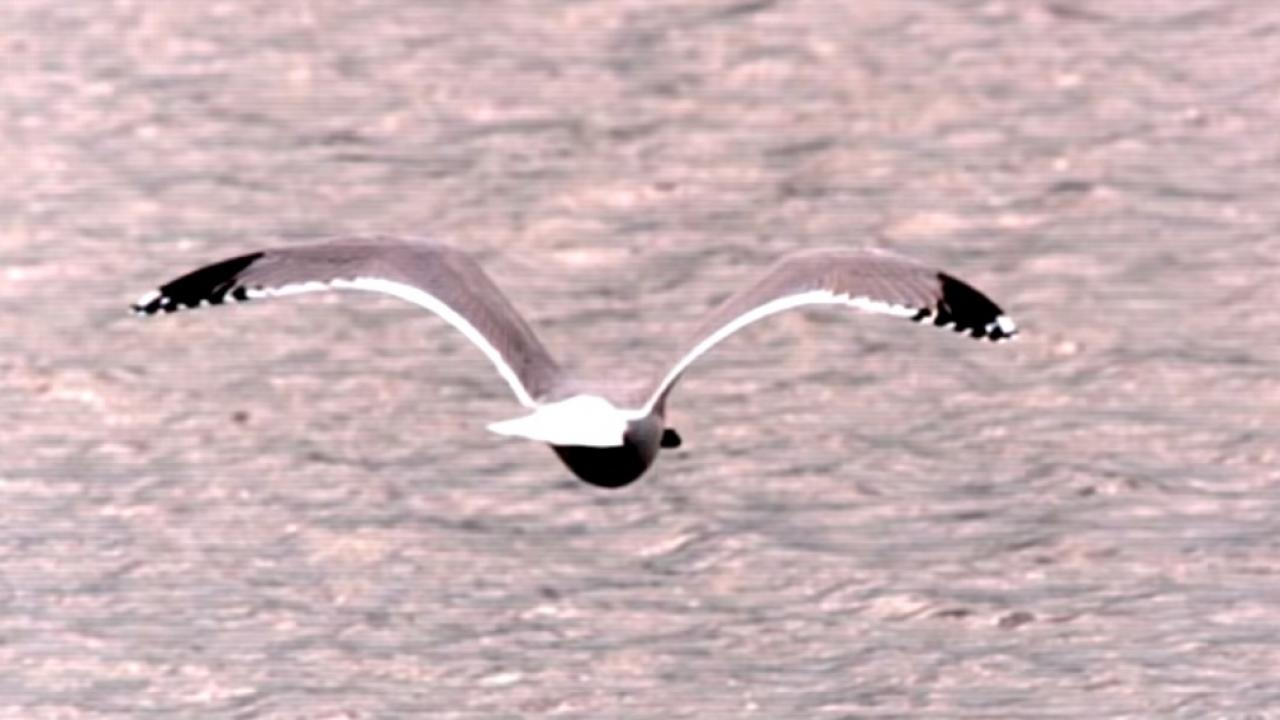Bird: (122, 227, 1029, 499)
